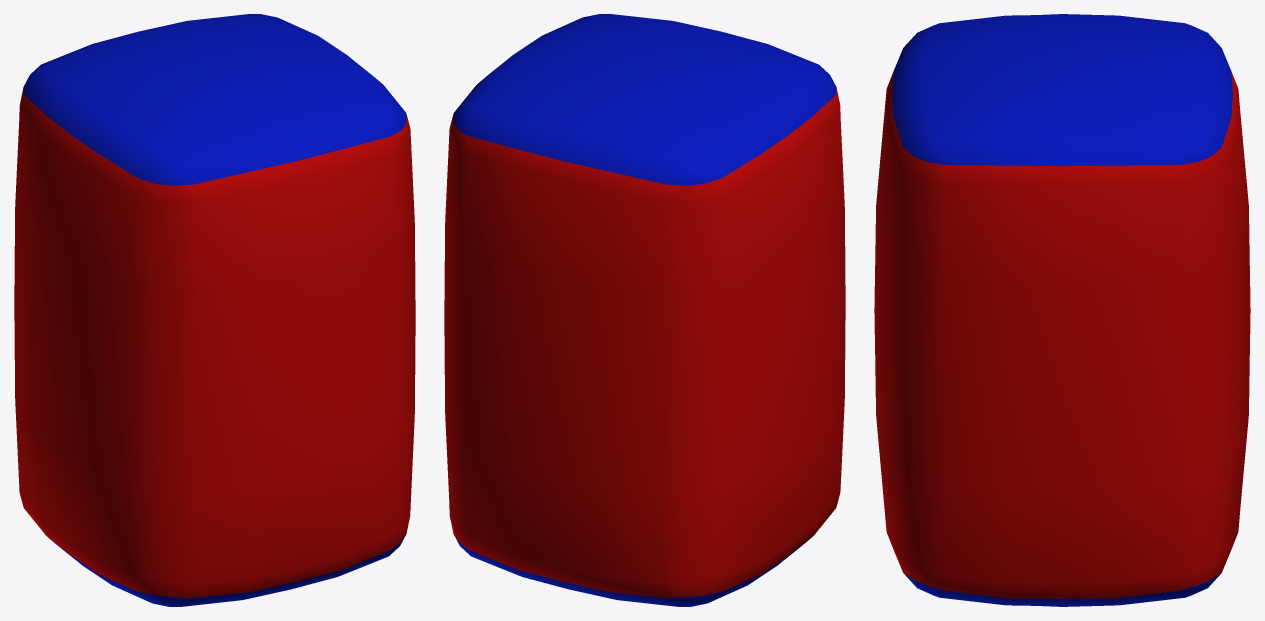
Rendered from Small-Box-Webview.glb.
The picture shows the model from 3 angles, left to right: view 1: azimuth 30°, elevation 25°; view 2: azimuth 150°, elevation 25°; view 3: azimuth 270°, elevation 25°; orthographic projection. The views are drawn at different scales.
Visible parts, largest first — view 1: Small-Box; view 2: Small-Box; view 3: Small-Box.
Part boxes in pixels (x1=…): Small-Box: x1=14, y1=14, x2=415, y2=606; Small-Box: x1=444, y1=14, x2=845, y2=606; Small-Box: x1=874, y1=14, x2=1250, y2=606.
Bounding box in the file's own units: 0.9444 × 1.39 × 0.9444.
